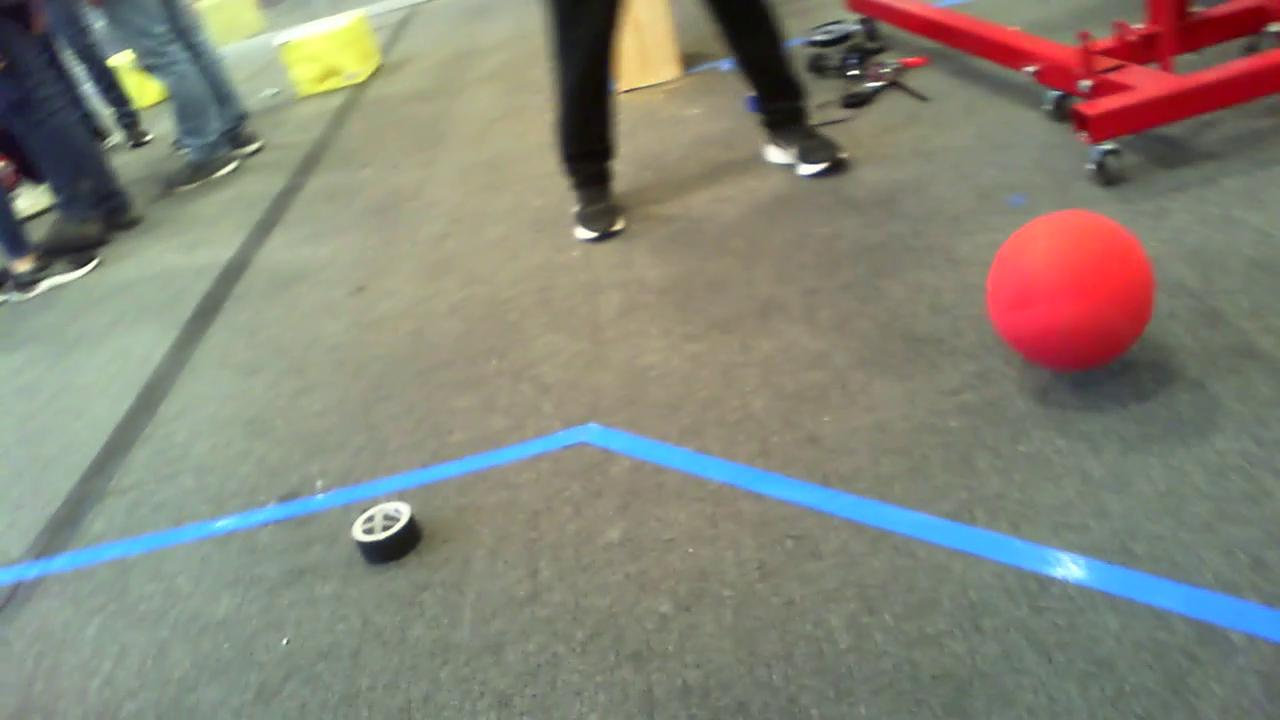Red_Ball: (959, 198, 1185, 386)
